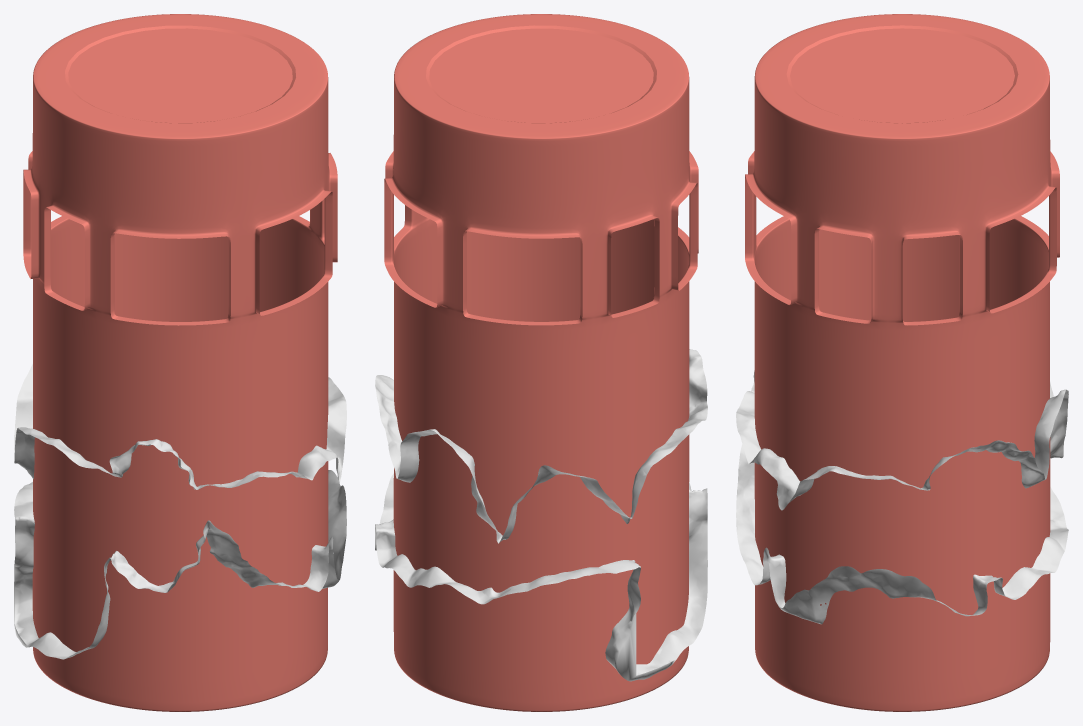
The model's file is BaseLow.fbx.
The picture shows the model from 3 angles, left to right: view 1: azimuth 30°, elevation 25°; view 2: azimuth 150°, elevation 25°; view 3: azimuth 270°, elevation 25°; orthographic projection.
Parts seen in each view (by area): view 1: BaseFinal, RocksLow; view 2: BaseFinal, RocksLow; view 3: BaseFinal, RocksLow.
Boxes of the visible parts, x1=… form: BaseFinal: x1=23, y1=14, x2=337, y2=711; RocksLow: x1=14, y1=364, x2=346, y2=659; BaseFinal: x1=384, y1=14, x2=698, y2=711; RocksLow: x1=375, y1=349, x2=707, y2=681; BaseFinal: x1=745, y1=14, x2=1059, y2=711; RocksLow: x1=736, y1=370, x2=1068, y2=624.
Size of the model in its own units: 8037 by 15351 by 8038.
